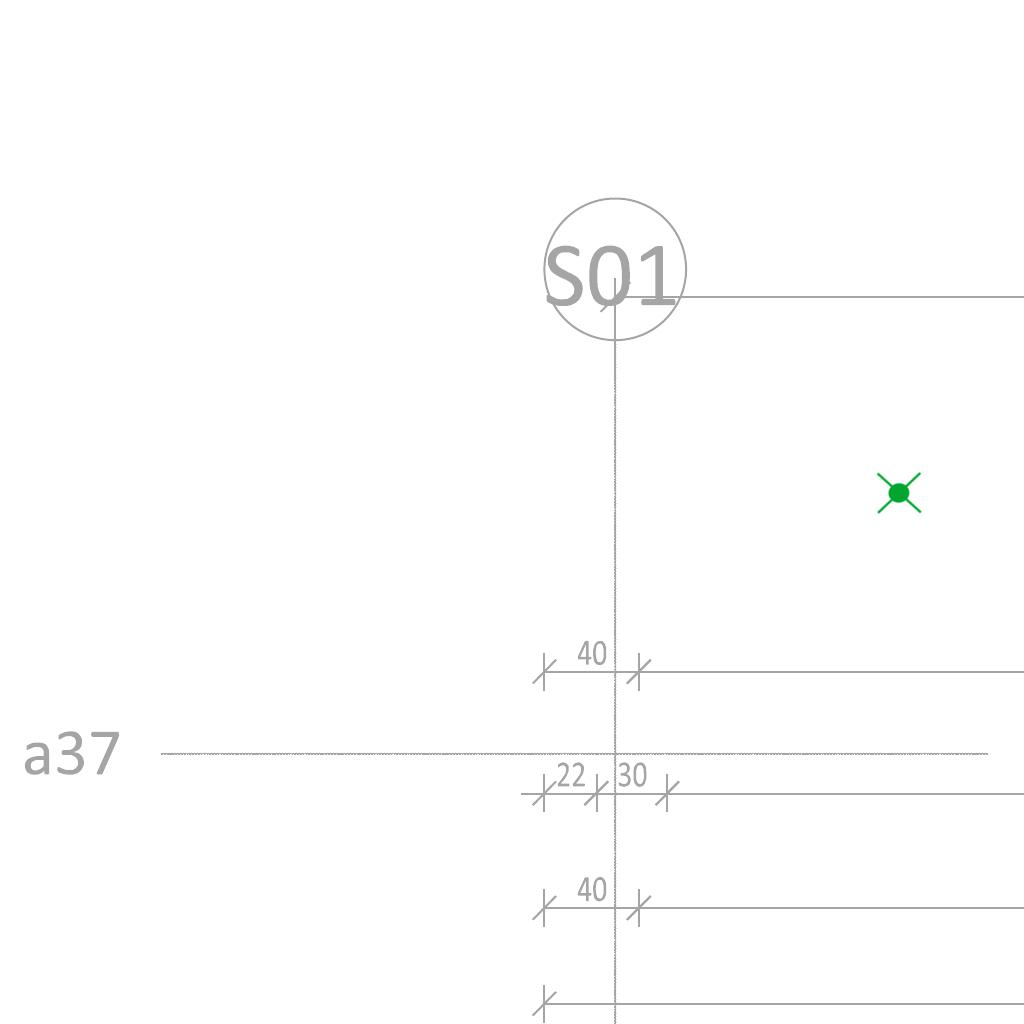Notlichtbaustein_in_Allgemeinbeleuchtug_engebaut_Einbau_(1UG_und_2UG_Aufbauvaria: (874, 468, 924, 519)
